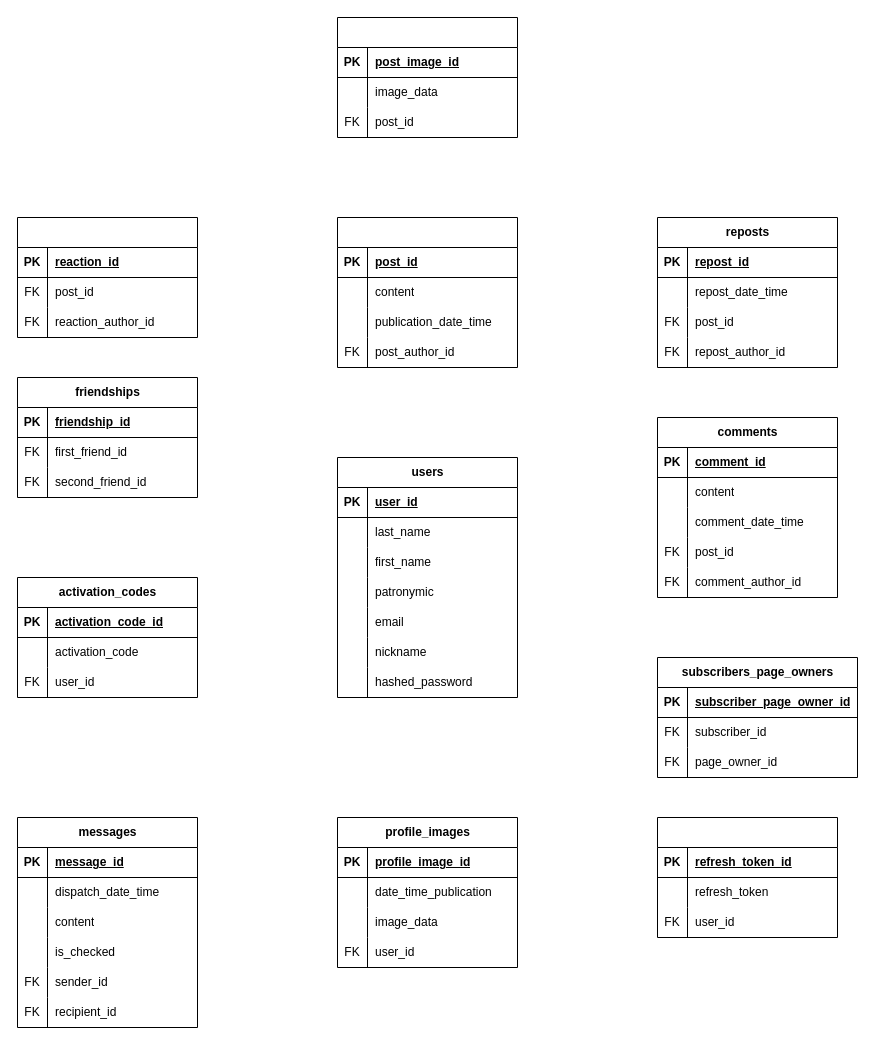
The diagram is 875 pixels wide and 1045 high, and some of its shapes have lost their labels. The shapes that lost their labels are listed below. From the top down, each one's box as (x1, y1, x2, y2) in pixels, then its label:
(336, 16, 518, 138): post_images
(16, 216, 198, 338): reactions
(336, 216, 518, 368): posts
(656, 816, 838, 938): refresh_tokens
